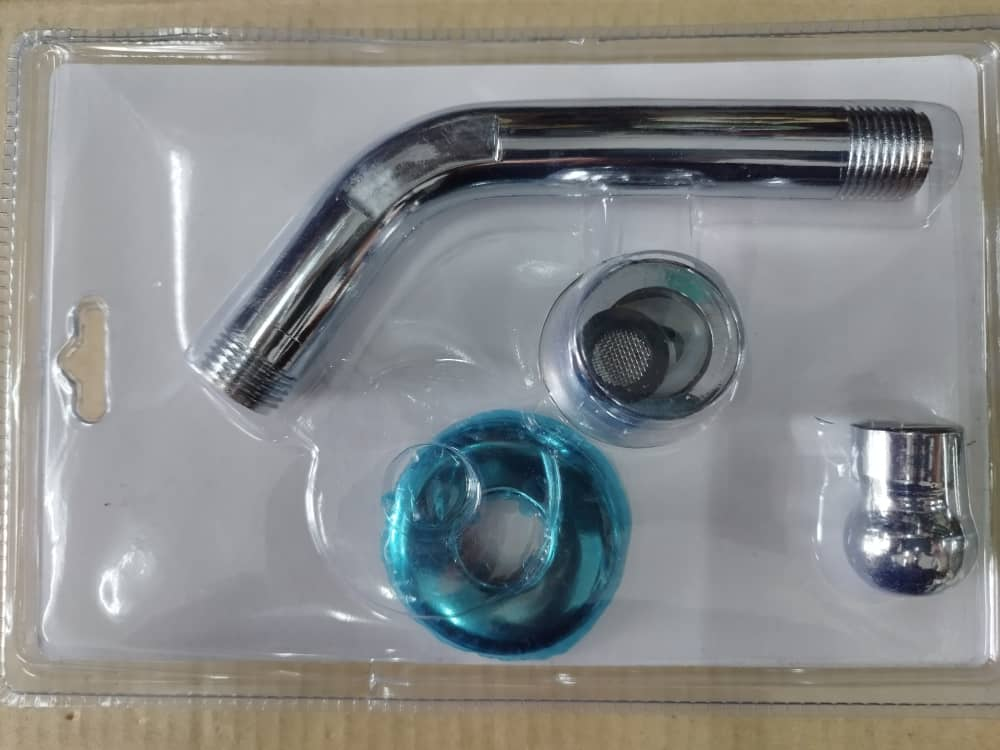sku_sss304_hand_spray_set: (146, 73, 994, 667)
